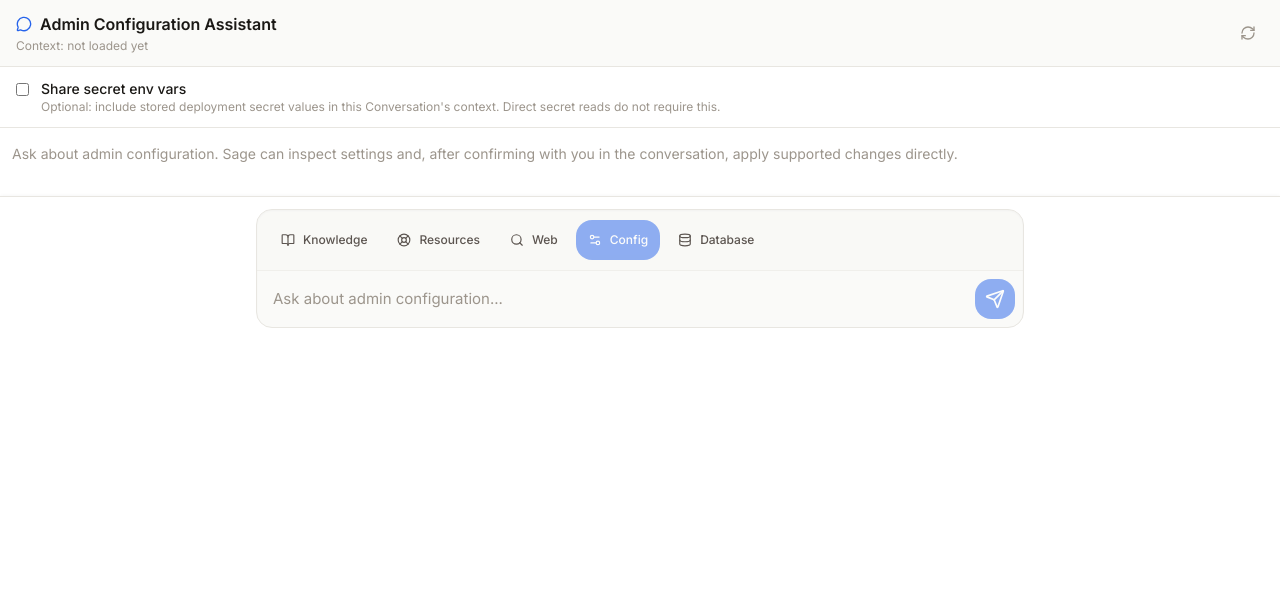
it: AdminConfigAssistant › merges repeated Trace Delta updates without dropping previous fields
Type "Check the current instance settings." into the text box labelled "Ask about admin configuration...". click: [616, 299]
box: [265, 279, 967, 319]
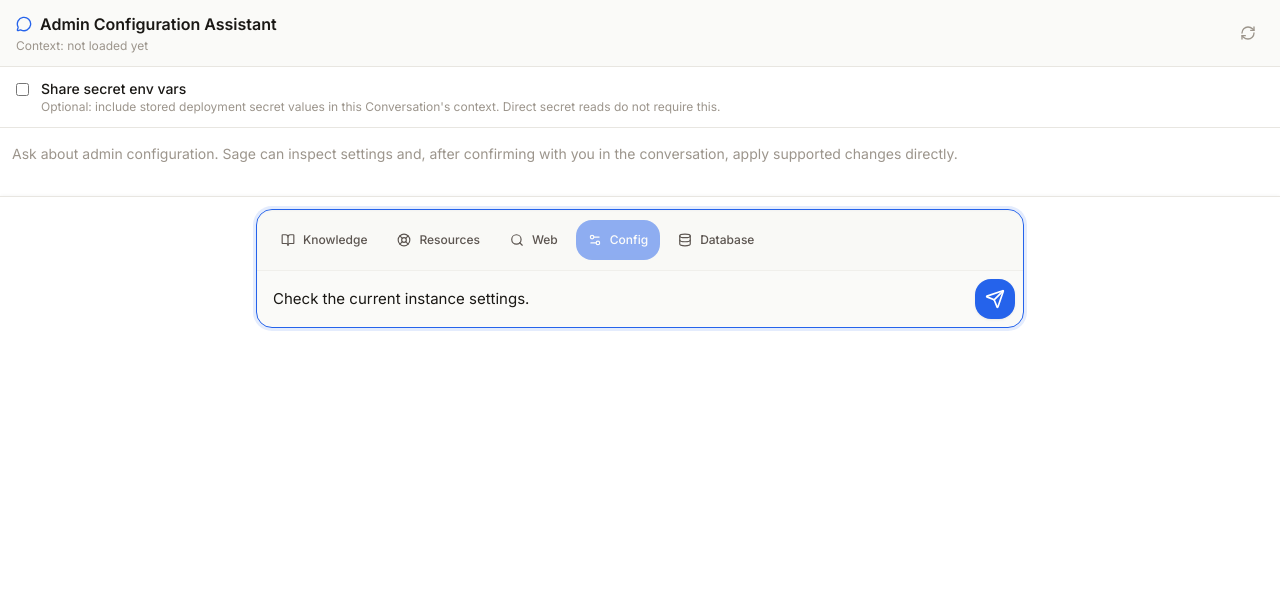
Click the button named "Send message". click: [995, 299]
box: [975, 279, 1015, 319]
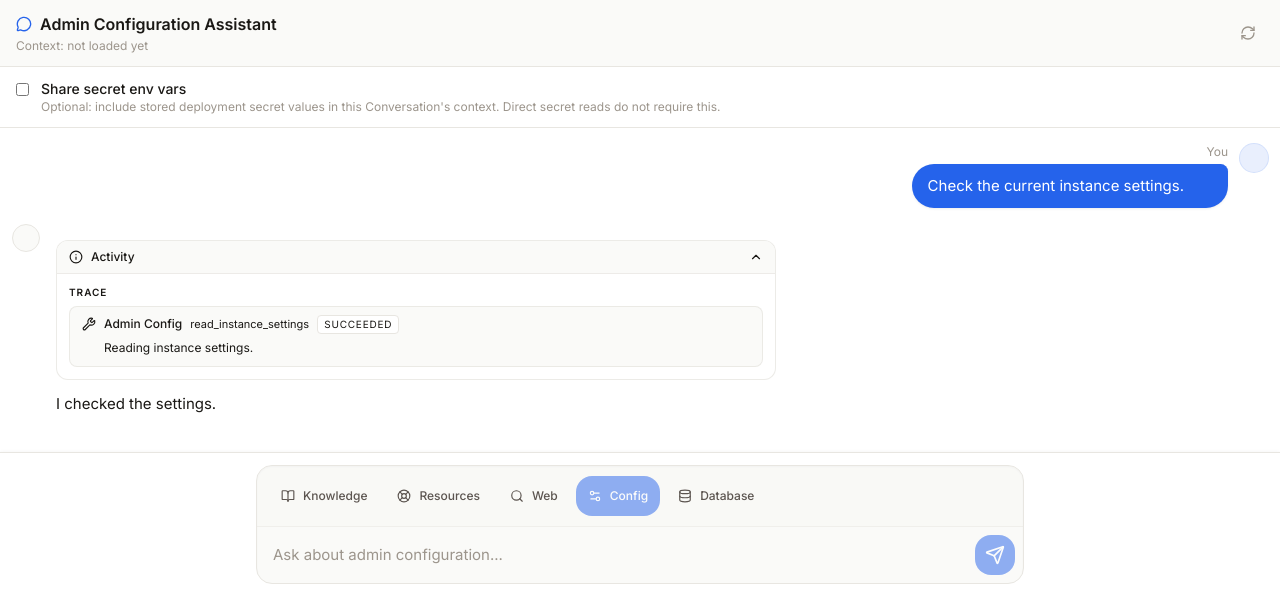
Expected: the text "read_instance_settings" is shown, [190, 317, 309, 332]
Expected: the text "Reading instance settings." is shown, [104, 340, 253, 355]
Expected: the text "succeeded" is shown, [317, 315, 399, 334]
